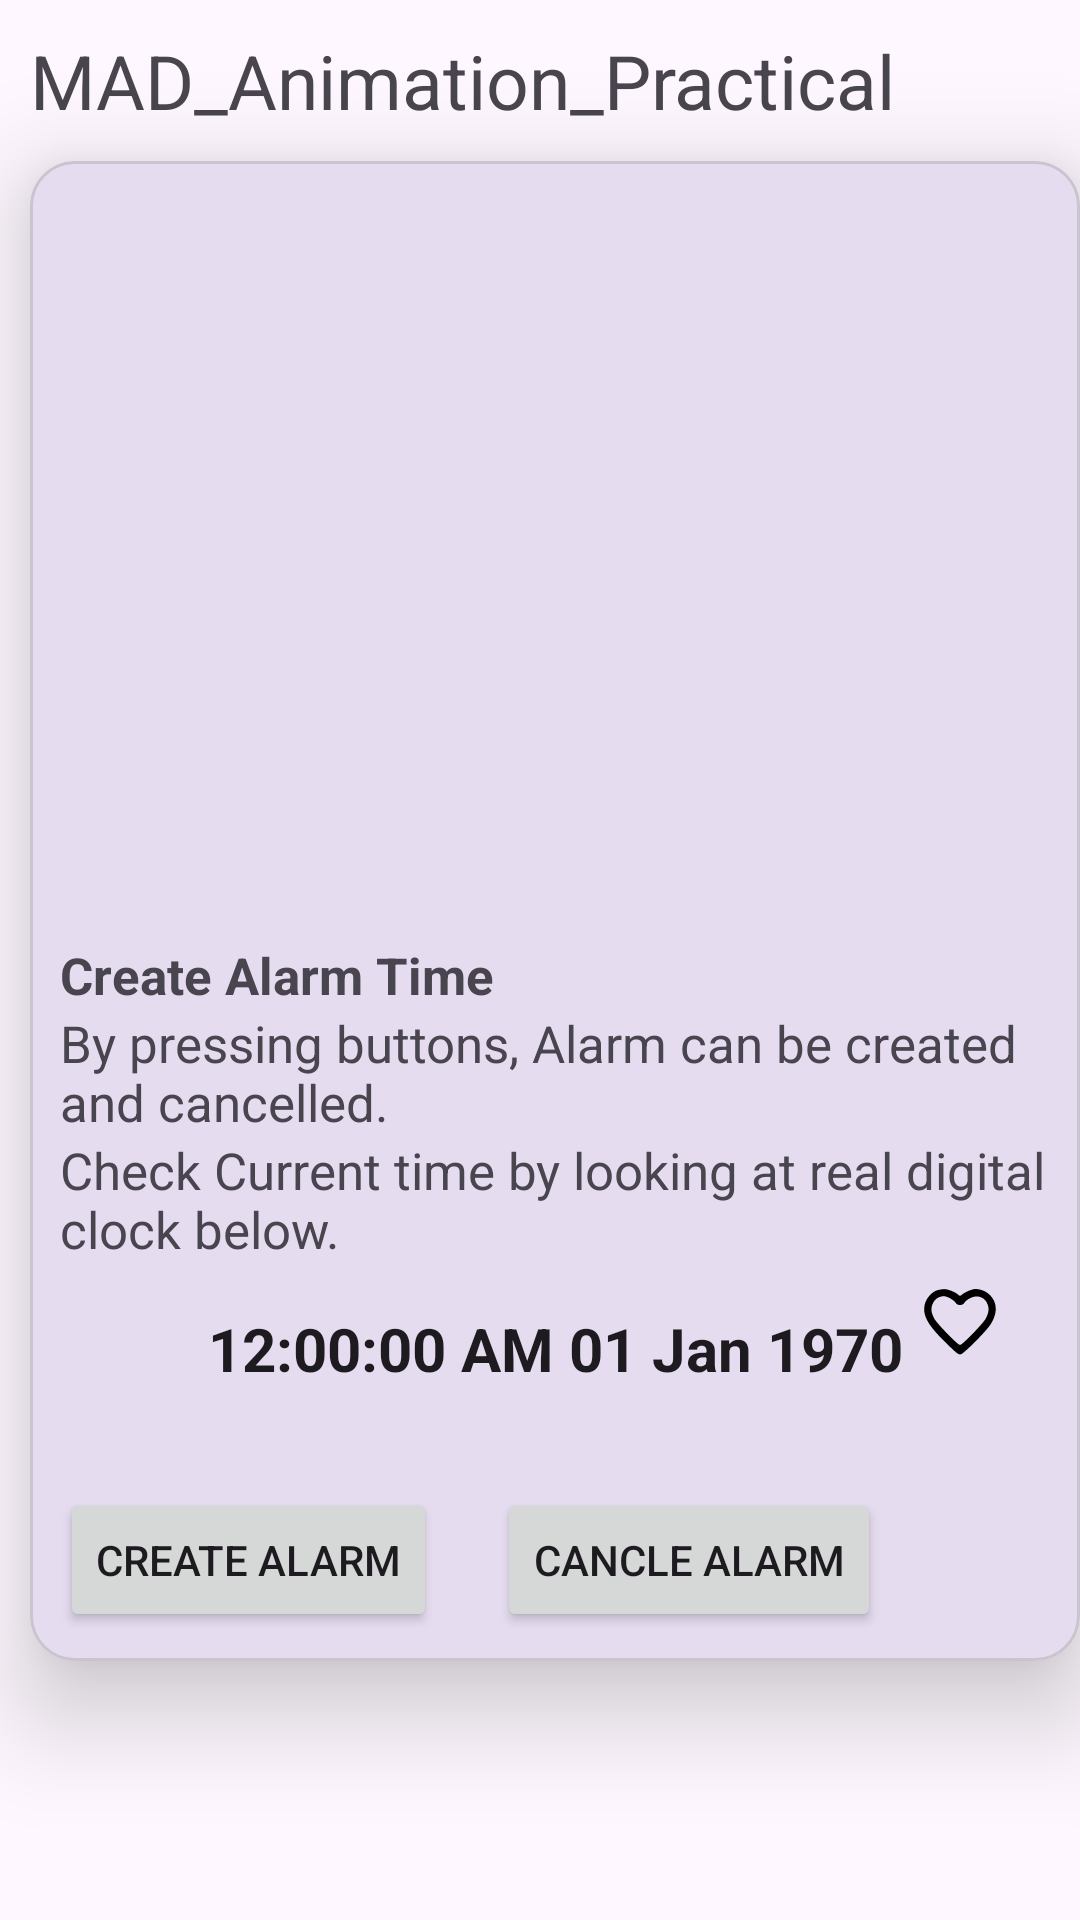

Point at icon controls on the screen. Image size 1080×1920, points as point (x, y).
heart animation list: point (960, 1322)
